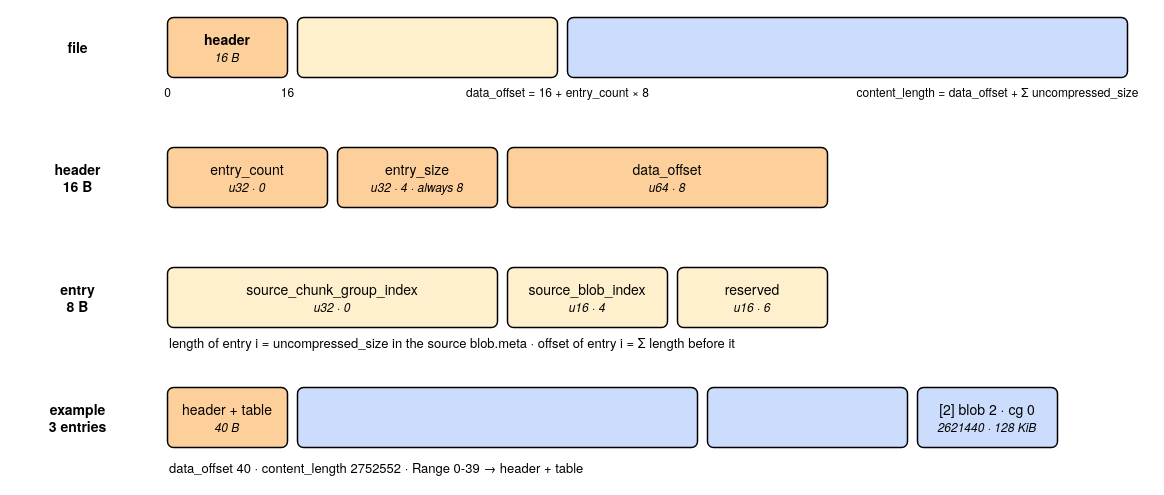
The diagram is 1164 pixels wide and 495 high, and some of its shapes have lost their labels. Here are the shapes that lost their labels. From the top down, the centre of each, then its label:
At (427,47): "entry table entry_count × 8 B".
At (847,47): "data decompressed chunk group bytes · back to back in table order".
At (497,417): "[0] blob 1 · cg 0 offset 0 · 2 MiB".
At (807,417): "[1] blob 1 · cg 5 2097152 · 512 KiB".
